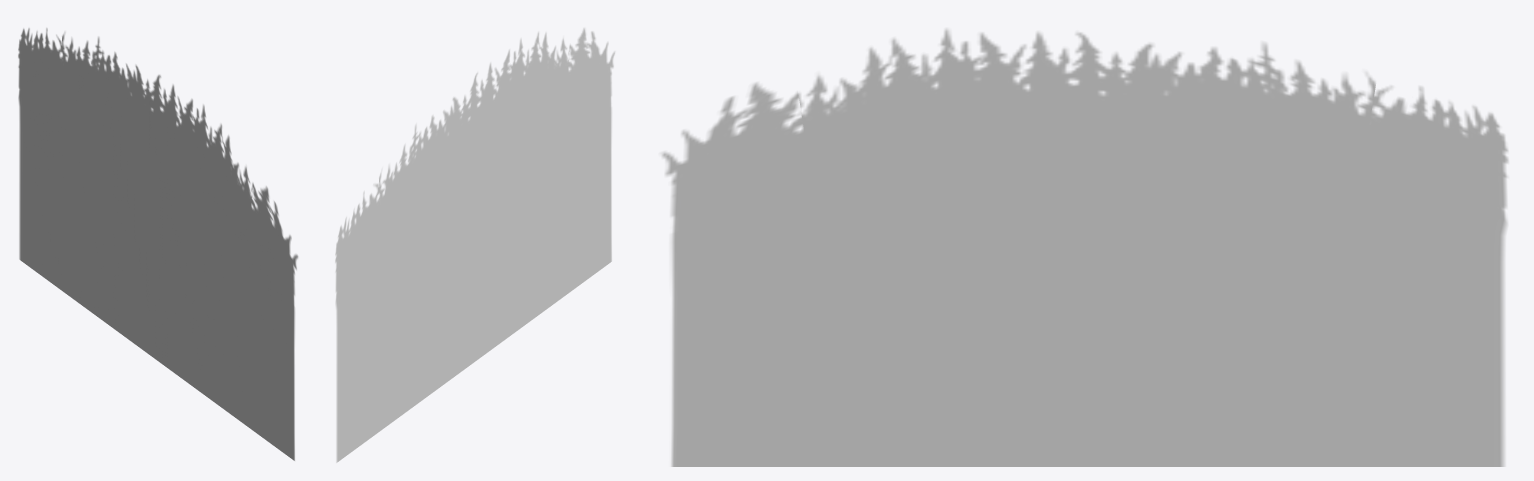
The picture shows the model from 3 angles, left to right: view 1: azimuth 30°, elevation 25°; view 2: azimuth 150°, elevation 25°; view 3: azimuth 270°, elevation 25°; orthographic projection. The views are drawn at different scales.
Parts seen in each view (by area): view 1: body0_model0_lod0_mesh0; view 2: body0_model0_lod0_mesh0; view 3: body0_model0_lod0_mesh0.
Boxes of the visible parts, left/top/right/bottom form: body0_model0_lod0_mesh0: left=18, top=28, right=298, bottom=460; body0_model0_lod0_mesh0: left=335, top=28, right=615, bottom=462; body0_model0_lod0_mesh0: left=660, top=28, right=1508, bottom=466.
Size of the model in its own units: 0 by 147 by 256.
1 material, 1 textured.
